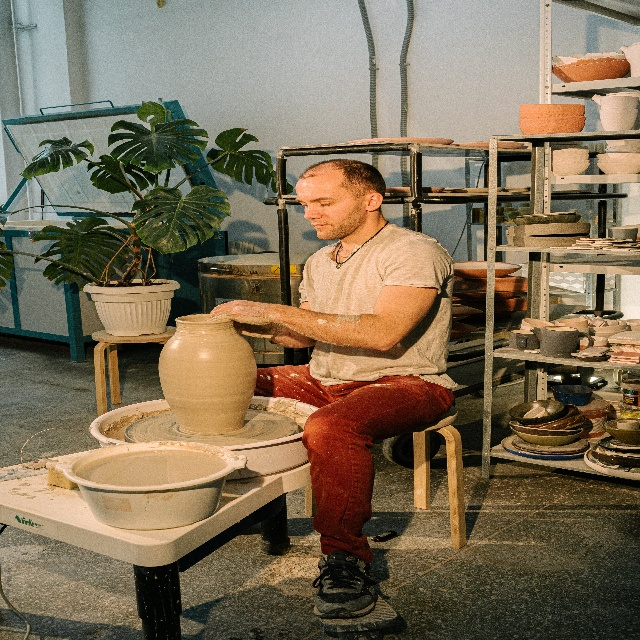Sin_guantes: (207, 300, 273, 326), (236, 321, 274, 342)
